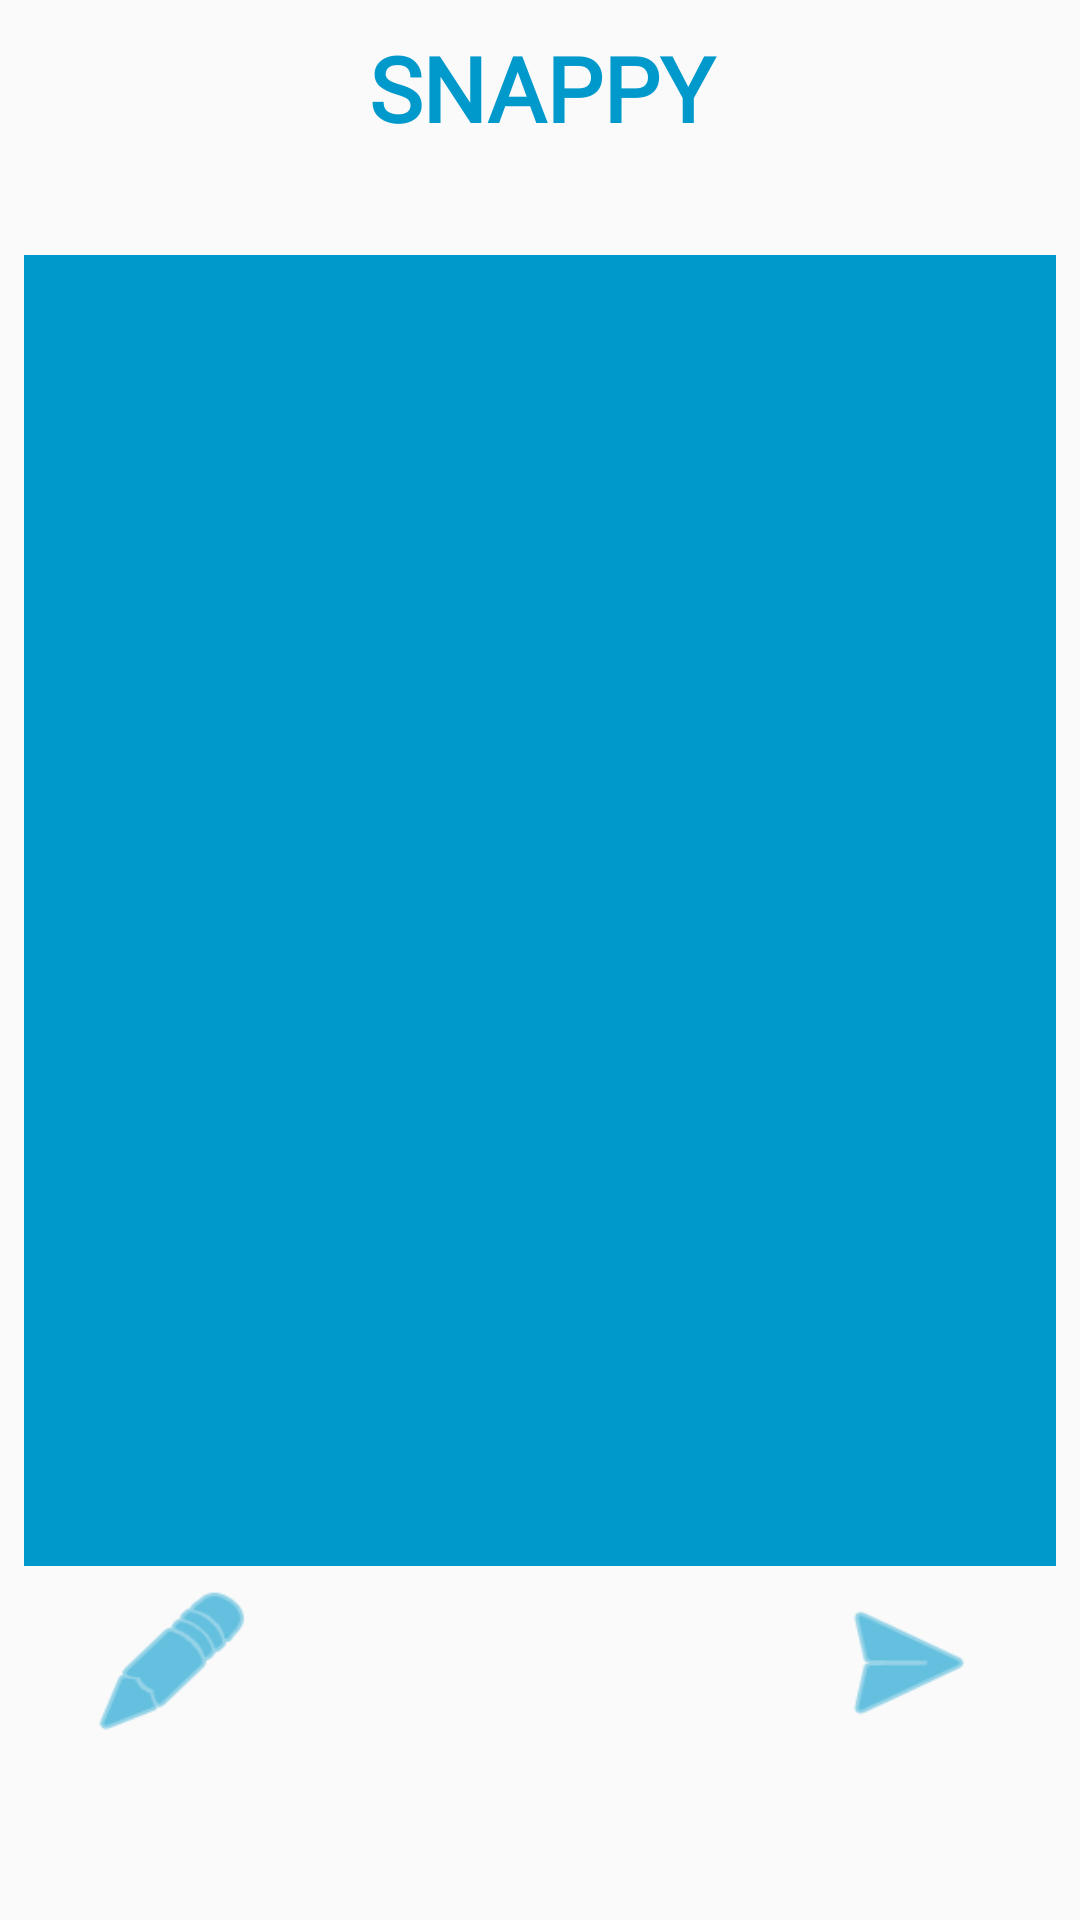

Icon bounding boxes for this 1080*1920 phone screenshot, format Rect(x1, y1, x2, y2):
edit: Rect(99, 1592, 244, 1730)
send: Rect(854, 1611, 964, 1714)
